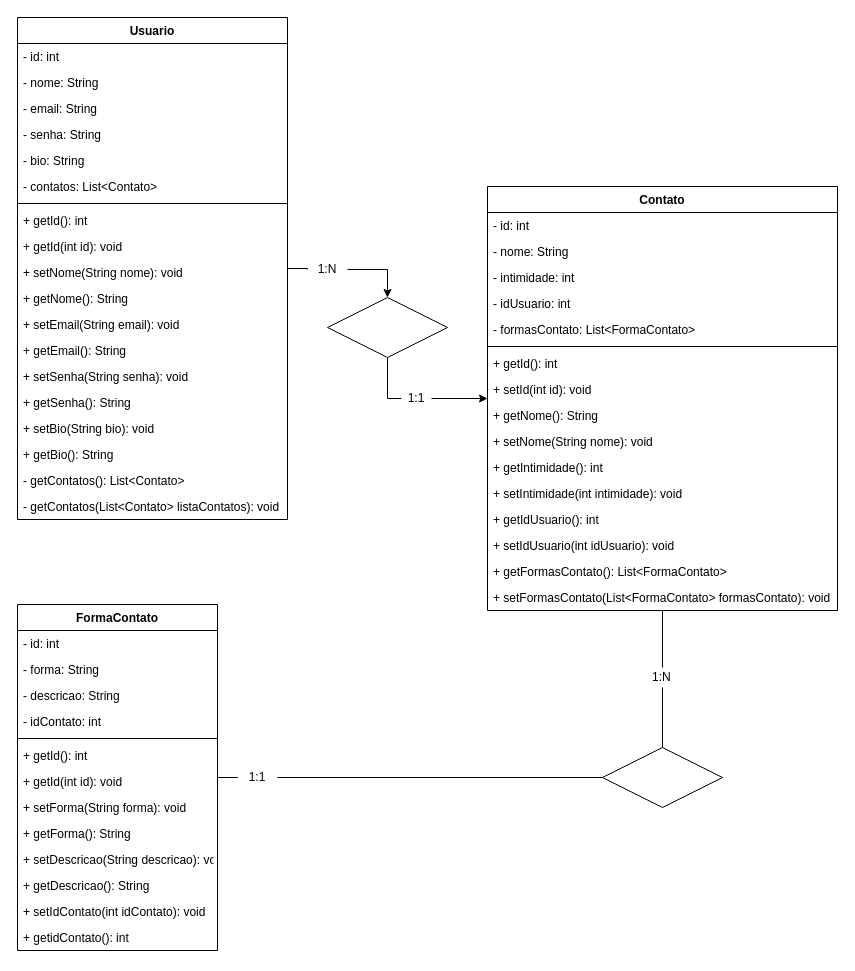
The diagram is 855 pixels wide and 971 high, and some of its shapes have lost their labels. Each missing label, with the box of its shape:
possui: (602, 746, 722, 808)
registra: (326, 296, 448, 358)
